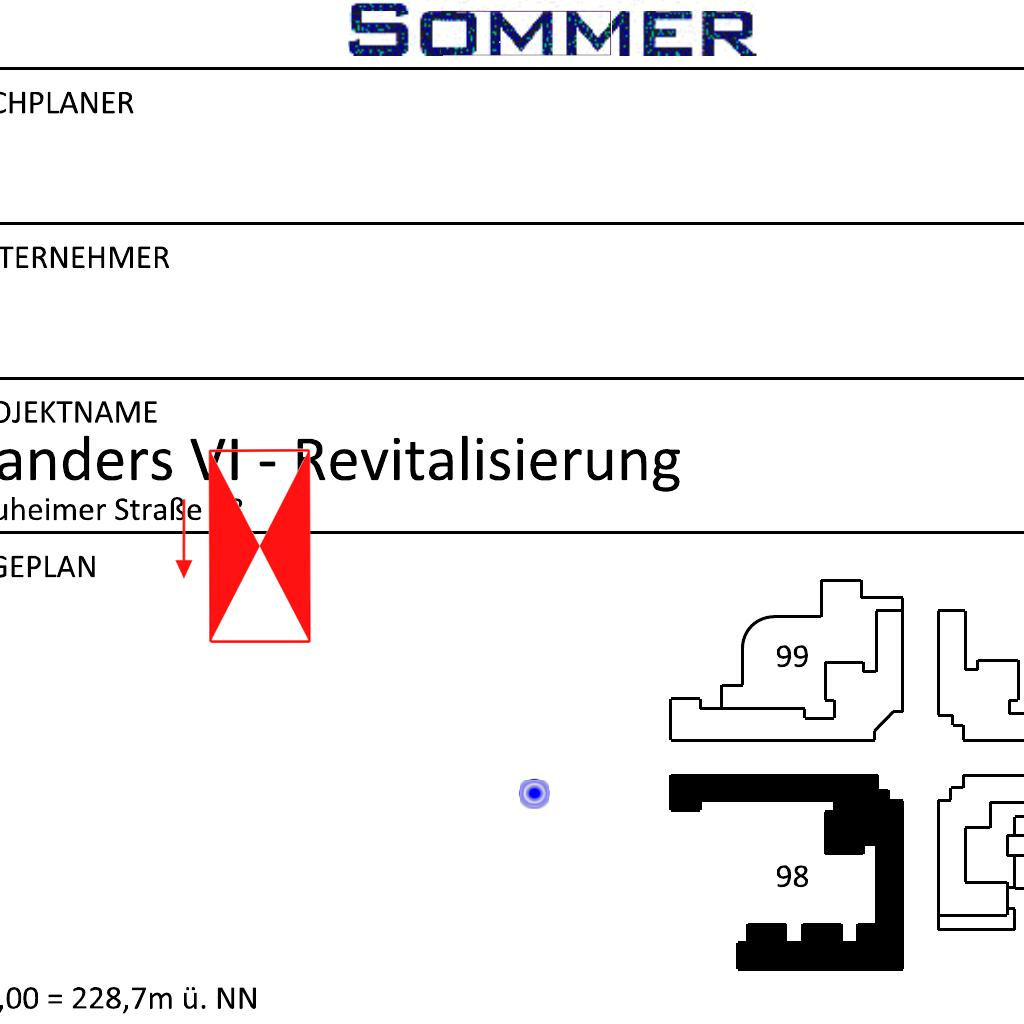Fluchtwegpiktogramm: (170, 442, 317, 650)
Taster: (518, 778, 551, 811)
